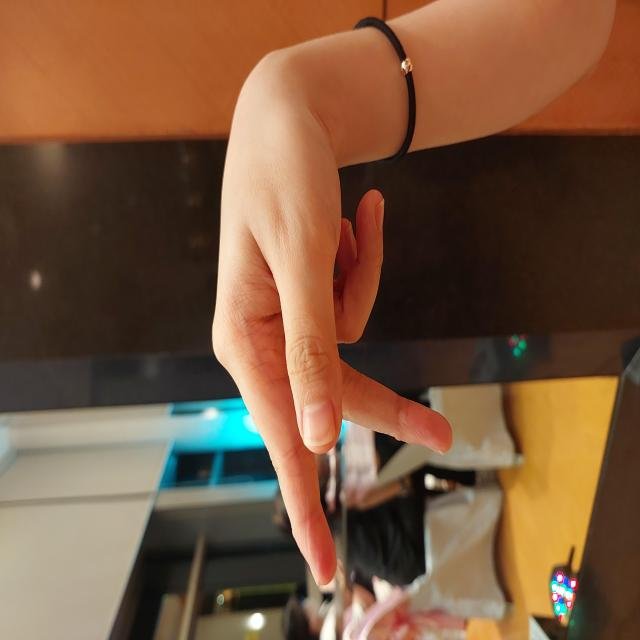P: (52, 208, 538, 454)
